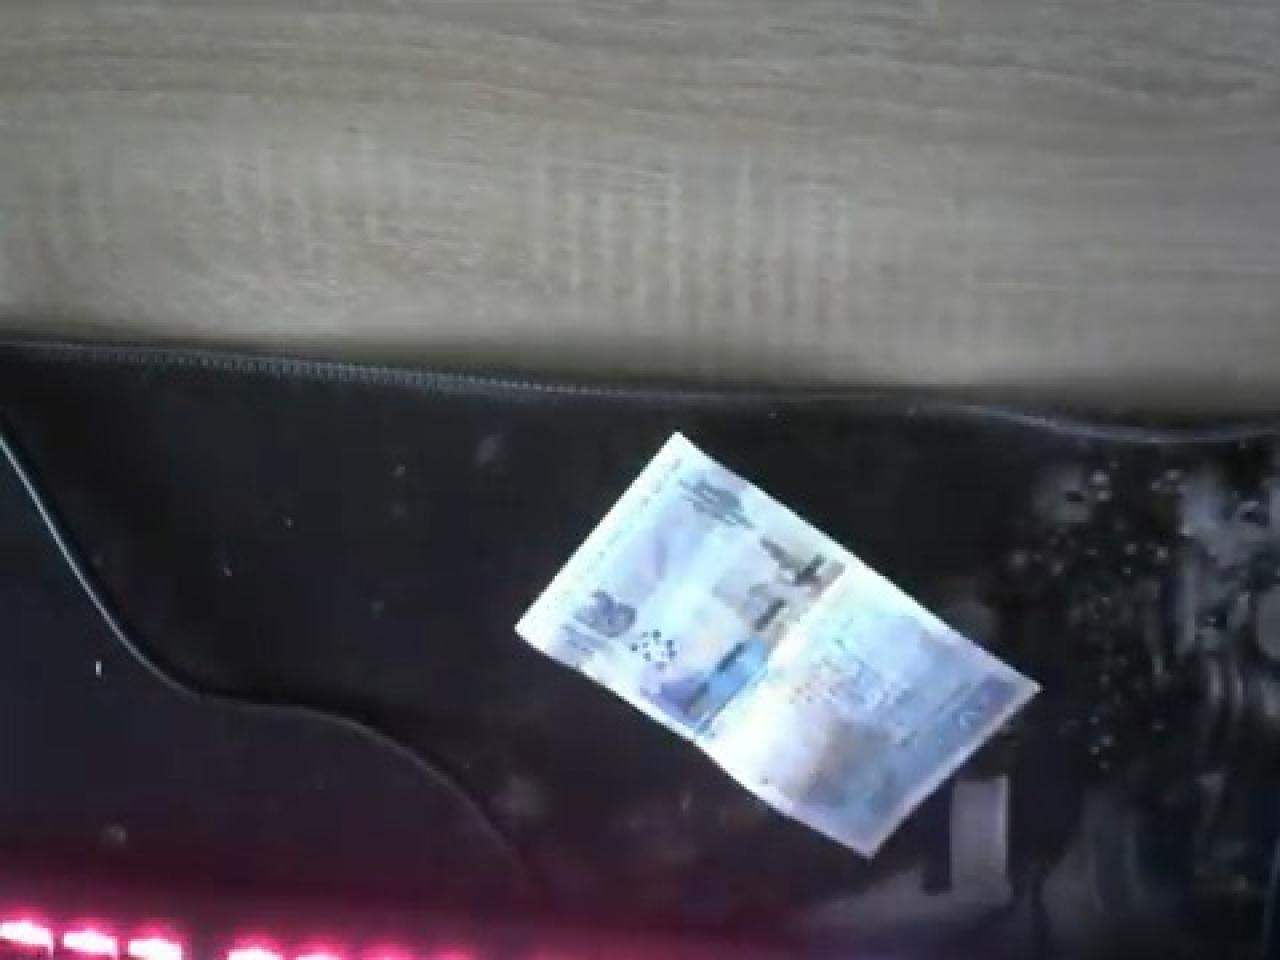20leva: (515, 429, 1043, 856)
